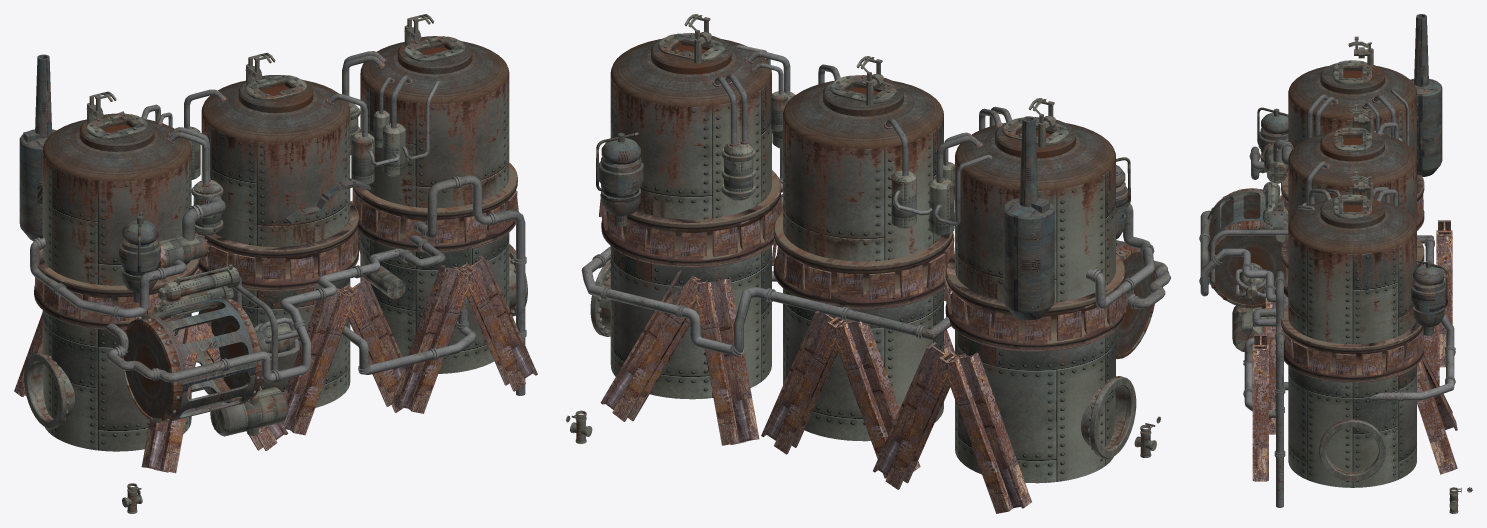
Rendered from static.fbx.
The picture shows the model from 3 angles, left to right: view 1: azimuth 30°, elevation 25°; view 2: azimuth 150°, elevation 25°; view 3: azimuth 270°, elevation 25°; orthographic projection. The views are drawn at different scales.
Parts seen in each view (by area): view 1: Cylinder_56, Cylinder_54, Cylinder_53, Sweep_16, Disc_2, Disc_4, Disc_3, Cube_4, Cube_3, Tube_2, Cube_5, Disc (+32 smaller); view 2: Cylinder_56, Cylinder_54, Cylinder_53, Sweep_16, Disc_2, Cube_17, Disc_3, Cylinder_51, Disc_4, Cube_14_4, Cube_15_4, Cube_16_4 (+25 smaller); view 3: Cylinder_54, Sweep_16, Disc_3, Disc_2, Disc_4, Disc, Cylinder_2_11, Cylinder_51, Cylinder_53, Cylinder_56, Cube_4, Cylinder_1_58 (+29 smaller).
Boxes of the visible parts, x1,y1,x2,y2 form: Cylinder_56: [42, 145, 191, 451]; Cylinder_54: [360, 68, 509, 373]; Cylinder_53: [201, 106, 350, 407]; Sweep_16: [30, 175, 525, 395]; Disc_2: [202, 80, 349, 142]; Disc_4: [43, 119, 191, 181]; Disc_3: [360, 41, 508, 104]; Cube_4: [391, 255, 537, 410]; Cube_3: [410, 263, 525, 413]; Tube_2: [145, 298, 255, 421]; Cube_5: [292, 284, 403, 435]; Disc: [123, 304, 248, 418]; Cylinder_56: [955, 151, 1115, 483]; Cylinder_54: [610, 68, 771, 399]; Cylinder_53: [783, 109, 943, 441]; Sweep_16: [581, 129, 1170, 355]; Disc_2: [783, 81, 943, 148]; Cube_17: [873, 342, 1031, 509]; Disc_3: [611, 39, 771, 106]; Cylinder_51: [1003, 198, 1054, 320]; Disc_4: [955, 123, 1115, 190]; Cube_14_4: [612, 278, 745, 445]; Cube_15_4: [600, 270, 759, 443]; Cube_16_4: [885, 350, 1010, 513]; Cylinder_54: [1288, 224, 1416, 487]; Sweep_16: [1200, 146, 1454, 507]; Disc_3: [1288, 200, 1416, 254]; Disc_2: [1288, 133, 1416, 187]; Disc_4: [1288, 66, 1416, 120]; Disc: [1209, 194, 1282, 304]; Cylinder_2_11: [1281, 305, 1424, 382]; Cylinder_51: [1410, 79, 1442, 176]; Cylinder_53: [1288, 157, 1416, 224]; Cylinder_56: [1288, 90, 1416, 157]; Cube_4: [1254, 334, 1267, 481]; Cylinder_1_58: [1411, 264, 1445, 335].
Size of the model in its own units: 1006 by 781 by 588.
9 materials, 9 textured.
